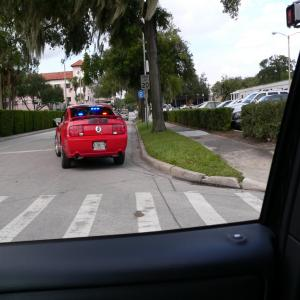Vehicle-registration-plate: (93, 143, 107, 152)
